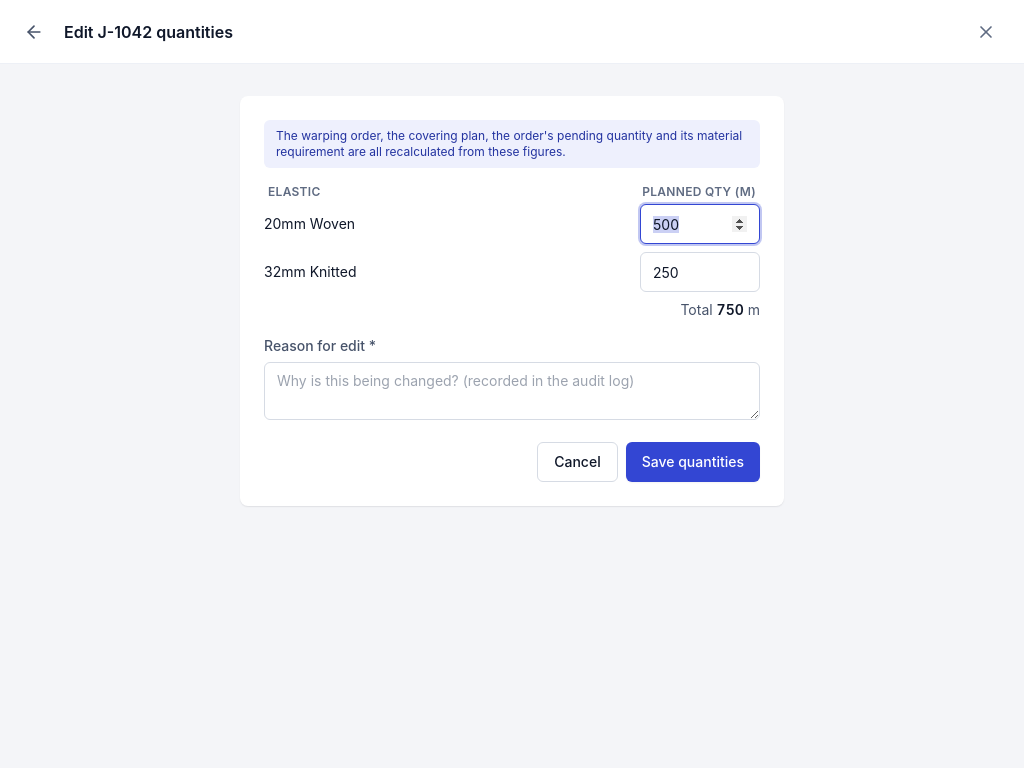
Test case: a refusal from the server › shows a preparation-started refusal the client could not have known about
Replace the text in the number field named "Planned quantity for 20mm Woven" with "300" at [700, 224], box [640, 204, 760, 244]
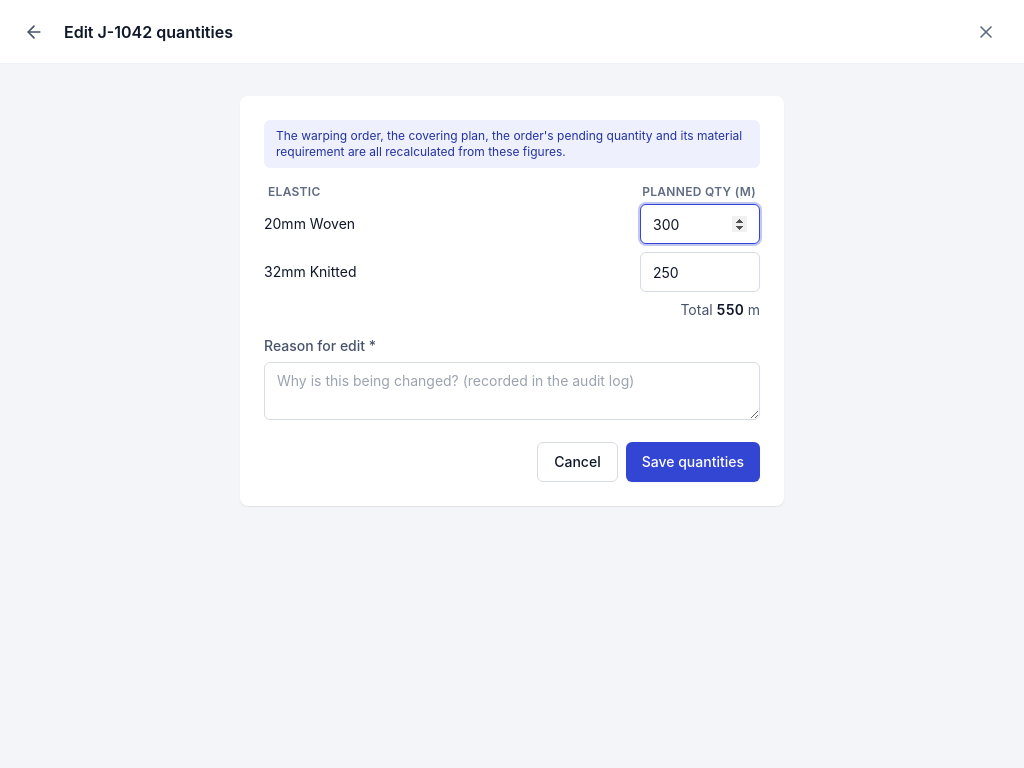
Type "Customer cut the order" into the text box with placeholder "Why is this being changed? (recorded in the audit log)" at [512, 391], box [264, 362, 760, 420]
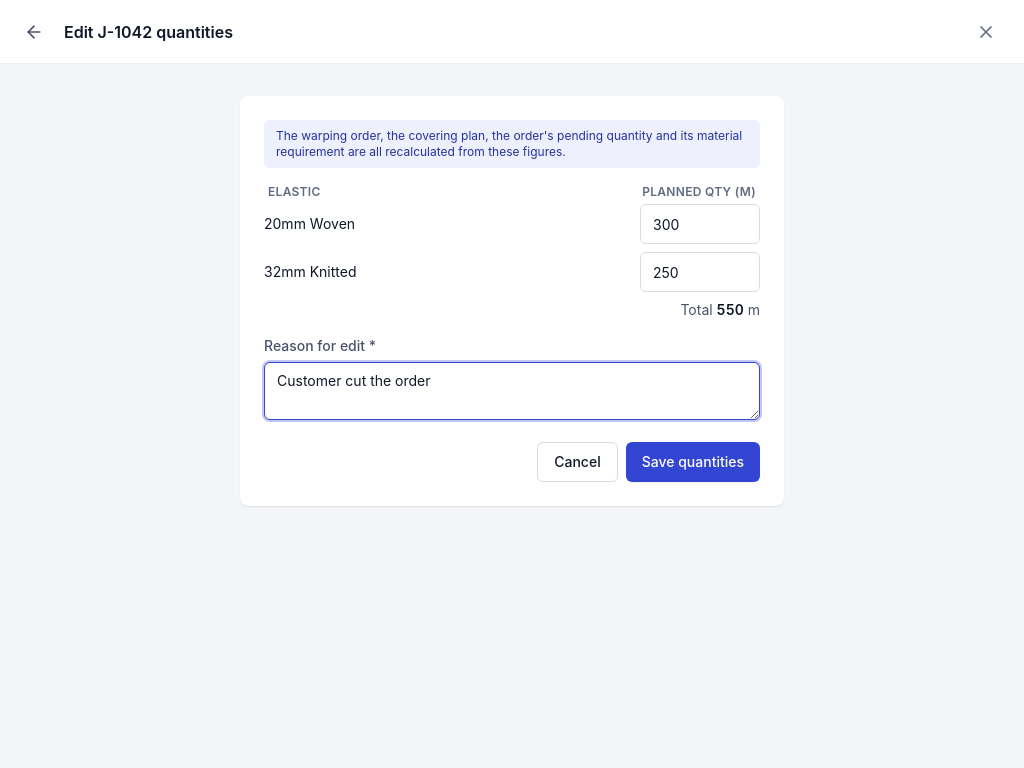
Click the button "Save quantities" at [693, 462], box [626, 442, 760, 482]
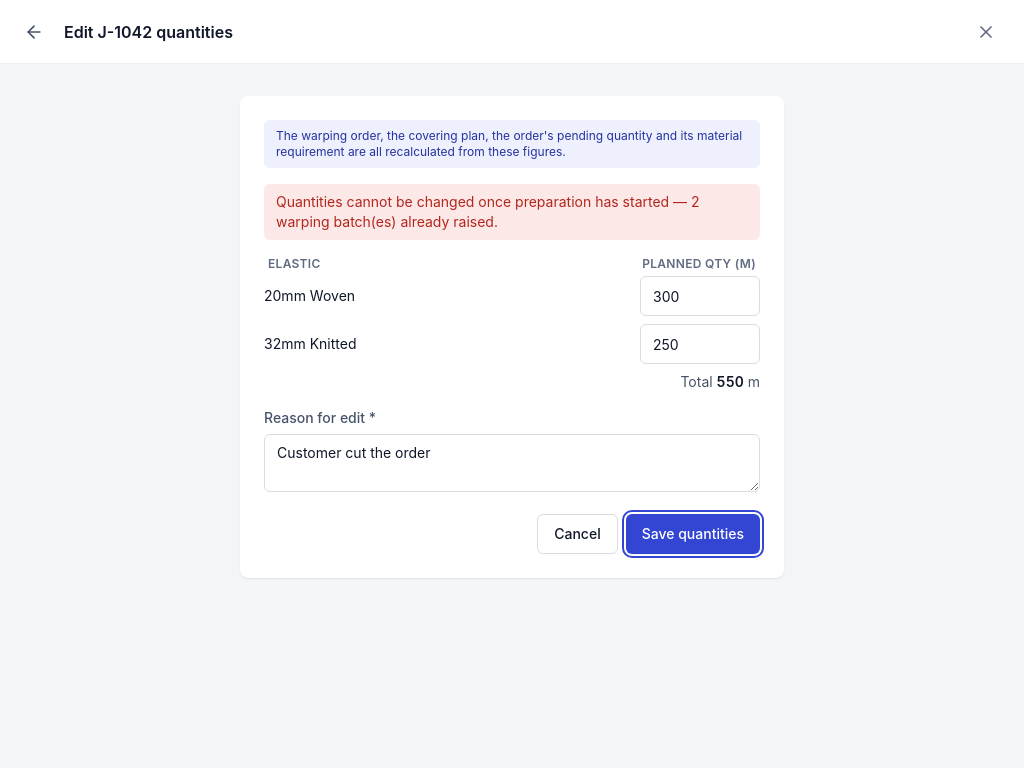
Check: the text "warping batch(es) already raised" is shown, box [276, 193, 700, 230]
